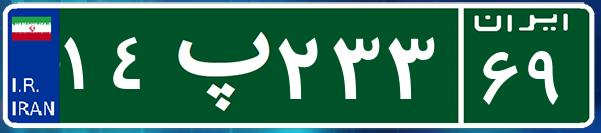1: (57, 26, 110, 107)
2: (273, 28, 330, 110)
3: (385, 28, 445, 110), (330, 28, 385, 110)
4: (110, 28, 158, 105)
6: (475, 38, 525, 113)
9: (525, 38, 570, 115)
پ: (158, 15, 273, 115)
